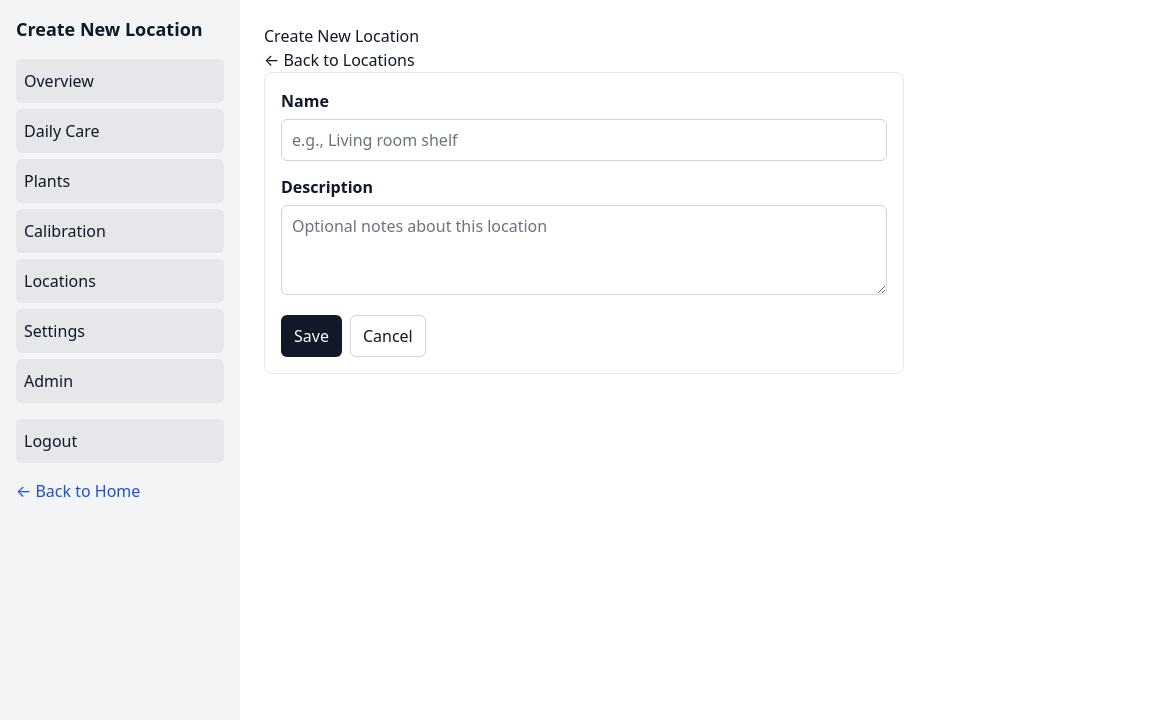
Test: pages/LocationCreate › server error without message shows generic fallback
Type "Office 2" into the field labelled "Name". click: (584, 140)
box: [281,119,887,161]
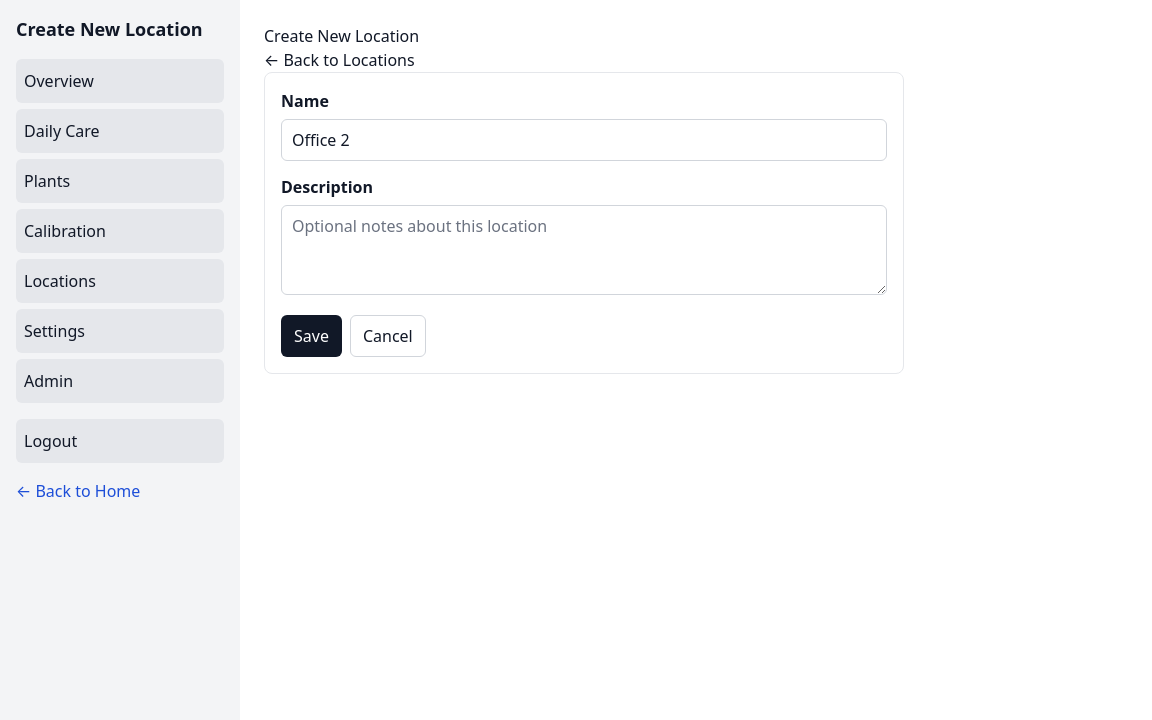
Click the button "Save". click: (311, 336)
box: [281,315,342,357]
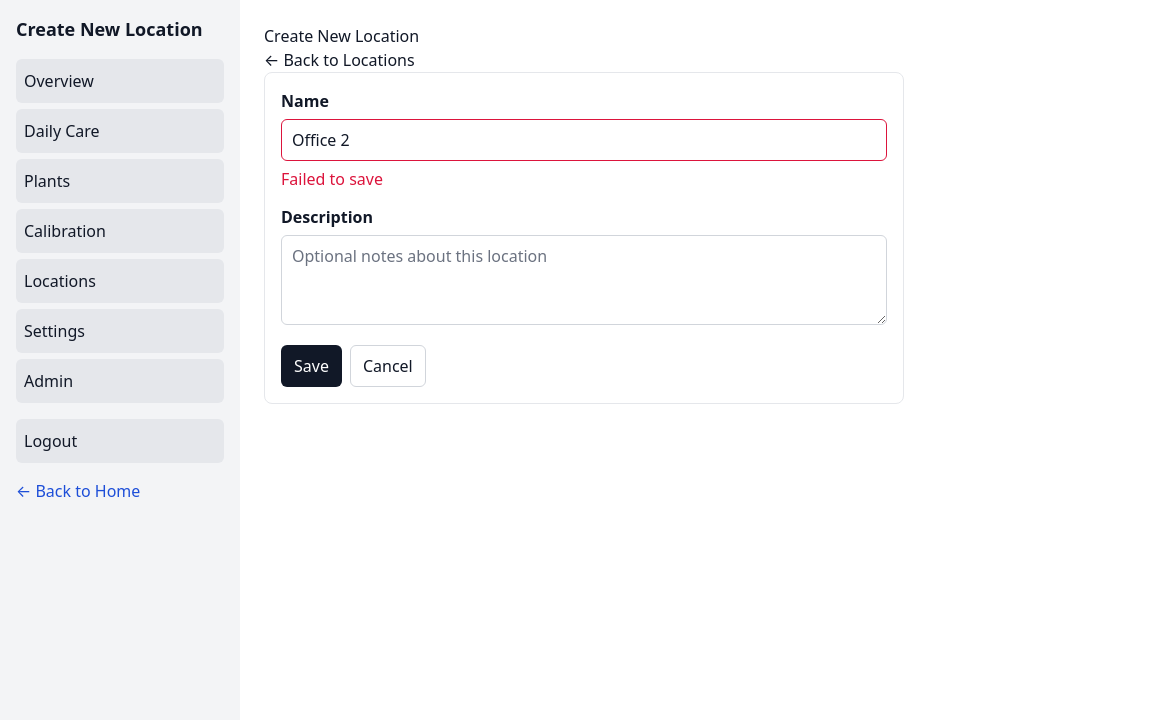
Check: the text "Failed to save" is shown, box [281,168,383,190]
